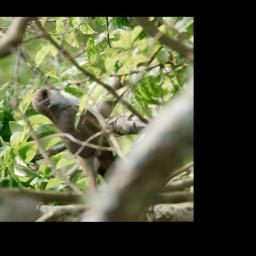Cuckoo: (30, 76, 119, 197)
